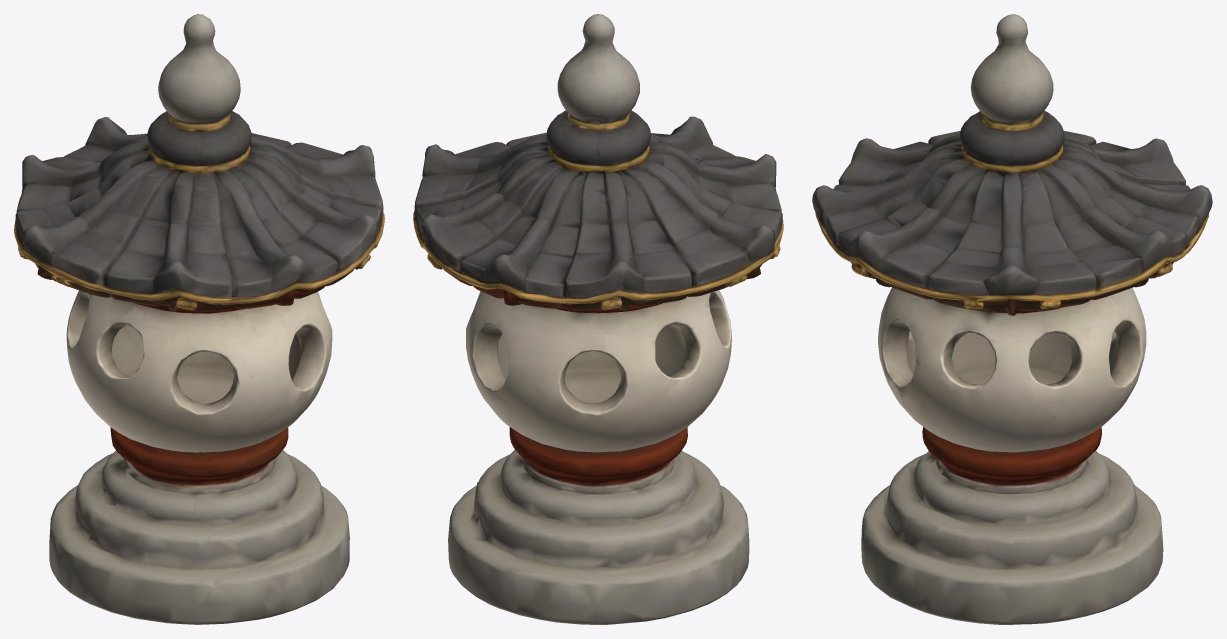
Rendered from santan-stone.glb.
3 renders of one model, left to right at view 1: azimuth 30°, elevation 25°; view 2: azimuth 150°, elevation 25°; view 3: azimuth 270°, elevation 25°, orthographic.
Visible parts, largest first — view 1: tripo_node_ecadaec5-c69e-4f9c-91e5-903be7741d62; view 2: tripo_node_ecadaec5-c69e-4f9c-91e5-903be7741d62; view 3: tripo_node_ecadaec5-c69e-4f9c-91e5-903be7741d62.
Part boxes in pixels (bbox=[...]): tripo_node_ecadaec5-c69e-4f9c-91e5-903be7741d62: bbox=[14, 14, 384, 624]; tripo_node_ecadaec5-c69e-4f9c-91e5-903be7741d62: bbox=[413, 14, 783, 624]; tripo_node_ecadaec5-c69e-4f9c-91e5-903be7741d62: bbox=[812, 14, 1212, 624].
Bounding box in the file's own units: 0.6466 × 0.9778 × 0.6438.
1 material, 1 textured.
